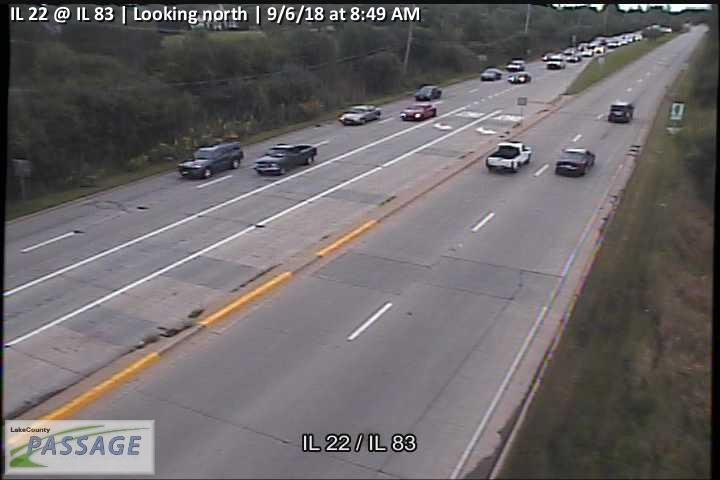SUV: (177, 142, 243, 179), (555, 148, 595, 178), (607, 103, 634, 124), (546, 55, 565, 70), (505, 59, 525, 70)
Sedan: (255, 143, 318, 177), (338, 104, 382, 125), (399, 103, 437, 121), (414, 85, 442, 102), (481, 66, 501, 82), (507, 71, 530, 84)
Truck: (485, 141, 531, 174)
